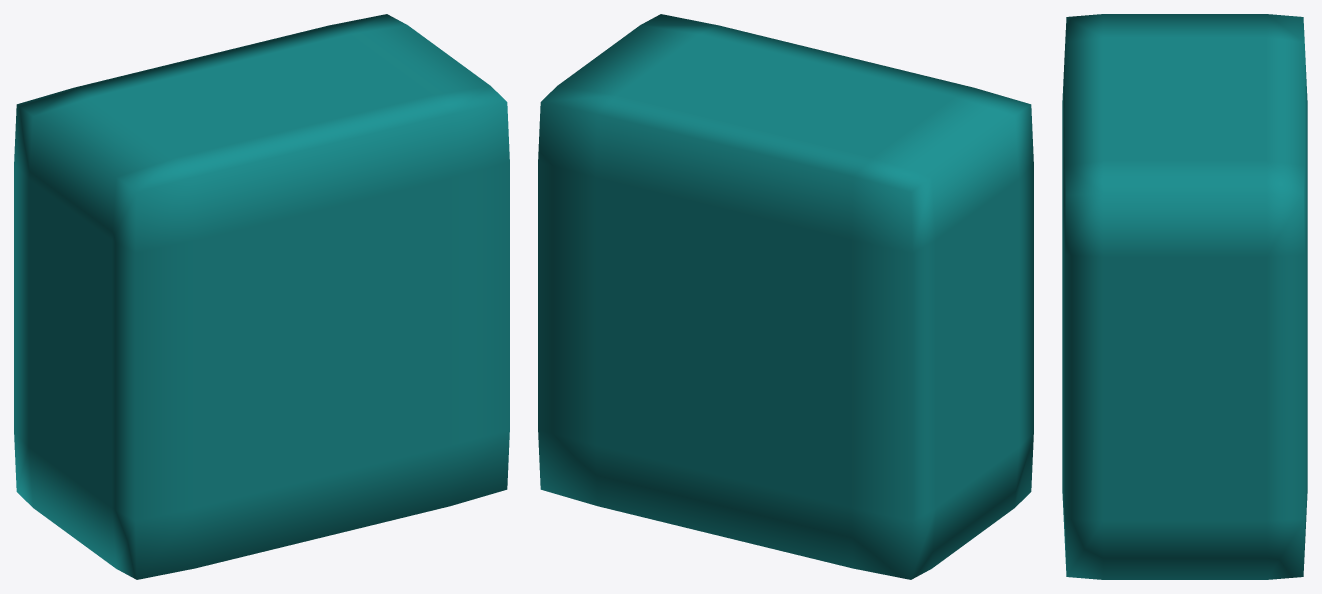
The model's file is 146_s3_loquet.glb.
The picture shows the model from 3 angles, left to right: view 1: azimuth 30°, elevation 25°; view 2: azimuth 150°, elevation 25°; view 3: azimuth 270°, elevation 25°; orthographic projection.
Parts seen in each view (by area): view 1: AGV_S3_loquet; view 2: AGV_S3_loquet; view 3: AGV_S3_loquet.
Boxes of the visible parts, left/top/right/bottom form: AGV_S3_loquet: left=14, top=14, right=509, bottom=579; AGV_S3_loquet: left=538, top=14, right=1033, bottom=579; AGV_S3_loquet: left=1062, top=14, right=1307, bottom=579.
Size of the model in its own units: 0.032 by 0.032 by 0.018.
